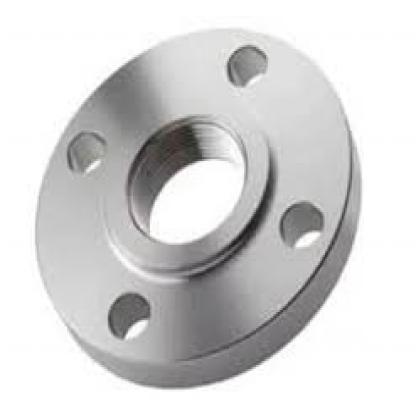FOD: (28, 20, 370, 390)
